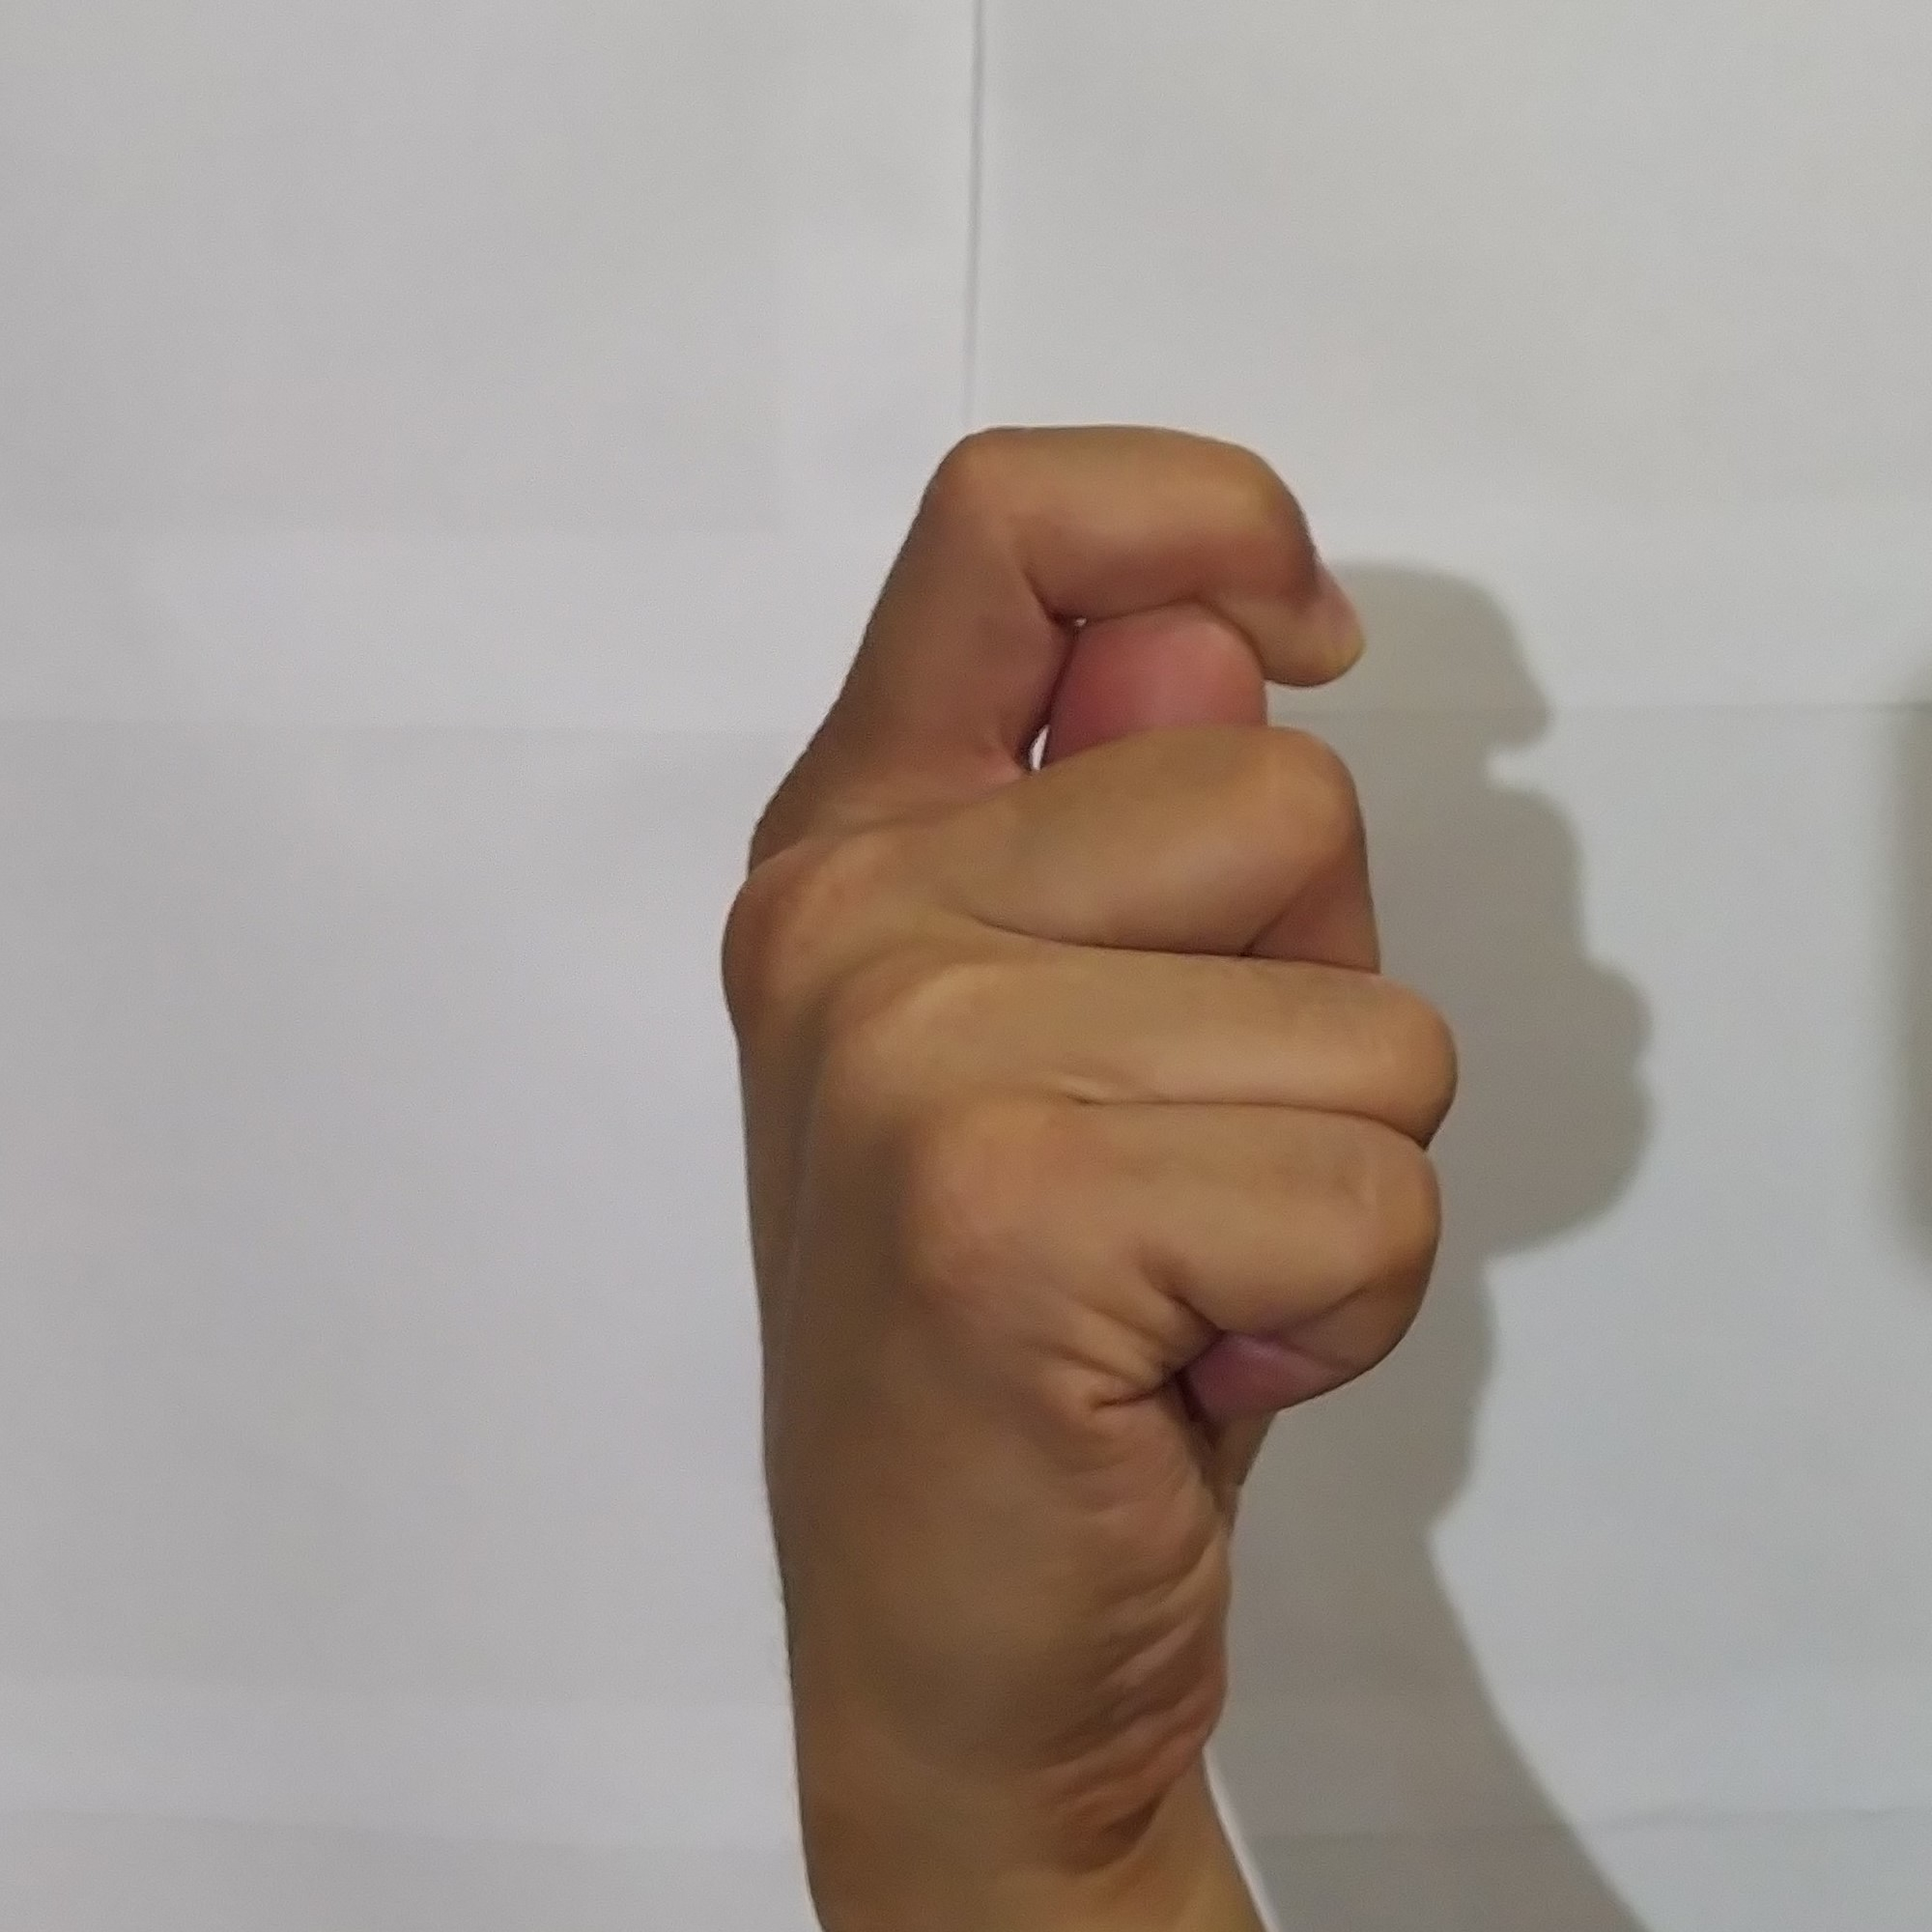T: (676, 375, 1490, 1780)
